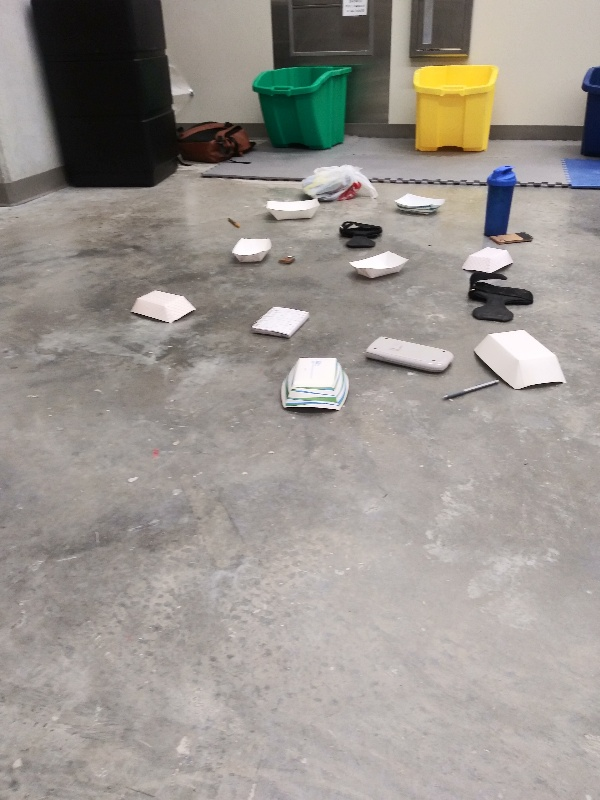plate: (471, 325, 573, 395), (279, 354, 354, 415), (128, 289, 200, 326), (457, 241, 515, 277), (348, 248, 410, 280), (260, 195, 326, 225), (390, 188, 448, 219), (229, 235, 273, 267)
